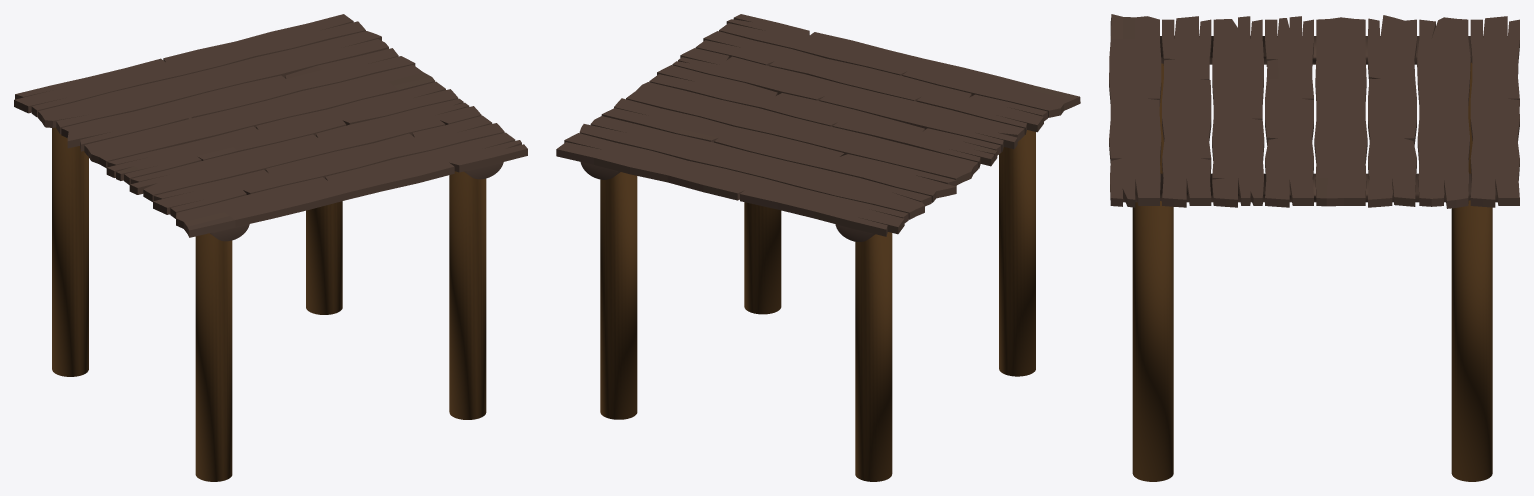
The model's file is Table.fbx.
3 renders of one model, left to right at view 1: azimuth 30°, elevation 25°; view 2: azimuth 150°, elevation 25°; view 3: azimuth 270°, elevation 25°, orthographic. The views are drawn at different scales.
Parts seen in each view (by area): view 1: Table; view 2: Table; view 3: Table.
Part boxes in pixels (bbox=[...]): Table: bbox=[14, 14, 527, 481]; Table: bbox=[556, 14, 1080, 481]; Table: bbox=[1109, 14, 1519, 481].
Size of the model in its own units: 352 by 262 by 328.
